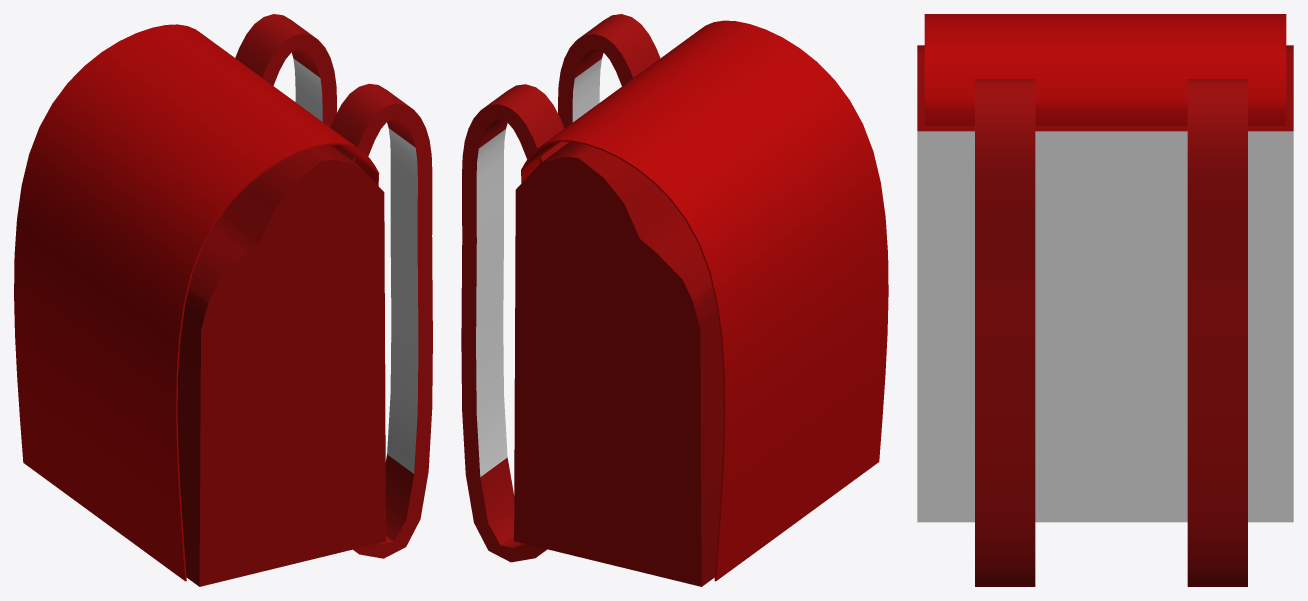
Rendered from randoseru.fbx.
3 renders of one model, left to right at view 1: azimuth 30°, elevation 25°; view 2: azimuth 150°, elevation 25°; view 3: azimuth 270°, elevation 25°, orthographic. The views are drawn at different scales.
Parts seen in each view (by area): view 1: pCube2, pCube1, pCube5; view 2: pCube2, pCube1, pCube5; view 3: pCube1, pCube5, pCube2.
Part boxes in pixels (x1,y1,x2,y2): pCube2: [14, 24, 379, 581]; pCube1: [177, 145, 385, 586]; pCube5: [235, 14, 432, 558]; pCube2: [521, 20, 888, 581]; pCube1: [514, 142, 723, 586]; pCube5: [461, 14, 660, 562]; pCube1: [917, 45, 1293, 522]; pCube5: [975, 79, 1247, 586]; pCube2: [924, 14, 1286, 125].
Size of the model in its own units: 4.44 by 6.87 by 4.64.
